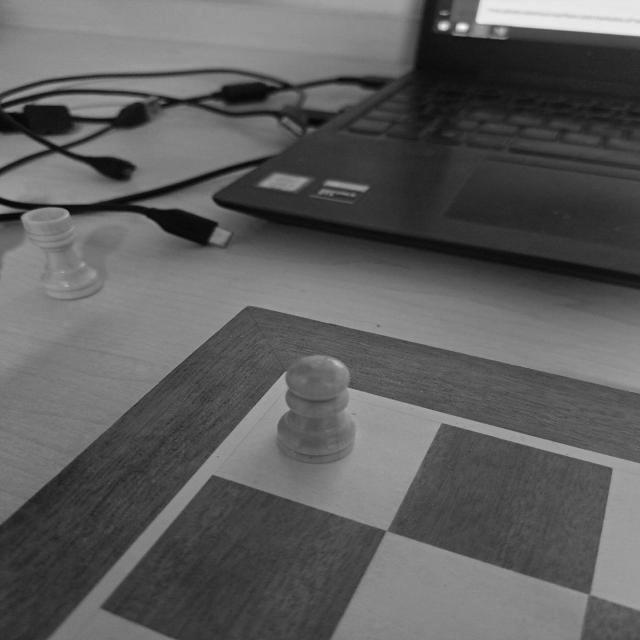chess-table-corners: (254, 360, 364, 410)
